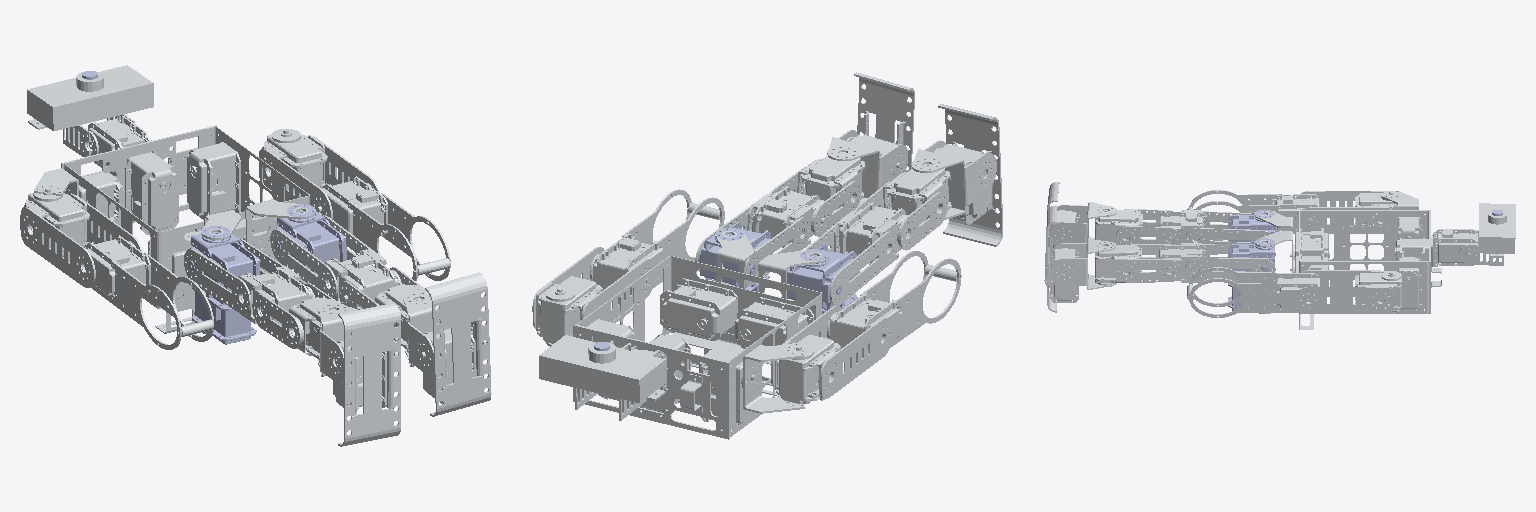
--- Render facts (derived) ---
The picture shows the robot from 3 angles, left to right: view 1: azimuth 30°, elevation 25°; view 2: azimuth 150°, elevation 25°; view 3: azimuth 270°, elevation 25°; orthographic projection.
Robot: natasha_urdf_v6 — 22 links, 21 joints (21 continuous); root link TRUNK; default pose: every joint at zero.
Links seen in each view (by area): view 1: TRUNK, RFOOT_link, LFOOT_link, HEAD_1_link, RARM_2_link, RARM_1_link, LARM_2_link, LARM_1_link, LLEG_1_link, RLEG_1_link, RLEG_2_link, RLEG_3_link (+8 smaller); view 2: TRUNK, HEAD_1_link, RARM_1_link, LARM_1_link, RARM_2_link, RLEG_1_link, RFOOT_link, LARM_2_link, LLEG_1_link, RLEG_3_link, LFOOT_link, LLEG_3_link (+7 smaller); view 3: TRUNK, LARM_1_link, LARM_2_link, LLEG_3_link, LLEG_1_link, RARM_1_link, RLEG_1_link, RLEG_3_link, HEAD_1_link, RARM_2_link, LLEG_4_link, HEAD_0_link (+5 smaller).
Boxes of the visible links, left/top/right/bottom form: TRUNK: left=61, top=125, right=309, bottom=333; RFOOT_link: left=333, top=303, right=400, bottom=446; LFOOT_link: left=420, top=272, right=491, bottom=416; HEAD_1_link: left=27, top=65, right=153, bottom=156; RARM_2_link: left=82, top=235, right=213, bottom=349; RARM_1_link: left=20, top=187, right=142, bottom=287; LARM_2_link: left=317, top=176, right=450, bottom=280; LARM_1_link: left=259, top=129, right=379, bottom=219; LLEG_1_link: left=270, top=215, right=401, bottom=308; RLEG_1_link: left=184, top=238, right=314, bottom=325; RLEG_2_link: left=186, top=226, right=260, bottom=344; RLEG_3_link: left=252, top=283, right=340, bottom=362; TRUNK: left=573, top=256, right=821, bottom=439; HEAD_1_link: left=539, top=335, right=665, bottom=420; RARM_1_link: left=771, top=306, right=893, bottom=403; LARM_1_link: left=532, top=247, right=655, bottom=346; RARM_2_link: left=827, top=251, right=961, bottom=353; RLEG_1_link: left=787, top=202, right=909, bottom=305; RFOOT_link: left=934, top=104, right=1002, bottom=246; LARM_2_link: left=590, top=189, right=724, bottom=294; LLEG_1_link: left=695, top=186, right=825, bottom=285; RLEG_3_link: left=854, top=164, right=951, bottom=250; LFOOT_link: left=847, top=72, right=914, bottom=206; LLEG_3_link: left=769, top=152, right=865, bottom=236; TRUNK: left=1290, top=210, right=1441, bottom=329; LARM_1_link: left=1295, top=270, right=1401, bottom=313; LARM_2_link: left=1187, top=267, right=1319, bottom=317; LLEG_3_link: left=1095, top=244, right=1180, bottom=285; LLEG_1_link: left=1159, top=243, right=1275, bottom=282; RARM_1_link: left=1295, top=191, right=1397, bottom=233; RLEG_1_link: left=1159, top=210, right=1275, bottom=246; RLEG_3_link: left=1095, top=209, right=1180, bottom=246; HEAD_1_link: left=1467, top=203, right=1515, bottom=265; RARM_2_link: left=1187, top=190, right=1319, bottom=240; LLEG_4_link: left=1050, top=239, right=1116, bottom=289; HEAD_0_link: left=1431, top=229, right=1478, bottom=266.
Bounding box of the posed robot: 0.3171 × 0.6504 × 0.1656 m (x, y, z).
Meshes: 22 distinct files referenced, 21 mesh visuals loaded (21 binary STL); not drawn: 1 (reference not matched to a file when rendering).

URDF robot description (natasha_urdf_v6):
<?xml version="1.0" encoding="utf-8"?>
<!-- This URDF was automatically created by SolidWorks to URDF Exporter! Originally created by Stephen Brawner ([email redacted]) 
     Commit Version: 1.6.0-1-g15f4949  Build Version: 1.6.7594.29634
     For more information, please see http://wiki.ros.org/sw_urdf_exporter -->
<robot
  name="natasha_urdf_v6">
  <link
    name="TRUNK">
    <inertial>
      <origin
        xyz="9.50996658639555E-06 0.00937366296309542 -0.00305558382467455"
        rpy="0 0 0" />
      <mass
        value="1.3101073571581" />
      <inertia
        ixx="0.000862370509360034"
        ixy="6.88949666442212E-07"
        ixz="8.1324508496927E-07"
        iyy="0.00112591602005438"
        iyz="-3.82594017095284E-05"
        izz="0.00129512091254438" />
    </inertial>
    <visual>
      <origin
        xyz="0 0 0"
        rpy="0 0 0" />
      <geometry>
        <mesh
          filename="package://natasha_urdf_v6/meshes/TRUNK.STL" />
      </geometry>
      <material
        name="">
        <color
          rgba="0.898039215686275 0.917647058823529 0.929411764705882 1" />
      </material>
    </visual>
    <collision>
      <origin
        xyz="0 0 0"
        rpy="0 0 0" />
      <geometry>
        <mesh
          filename="package://natasha_urdf_v6/meshes/TRUNK.STL" />
      </geometry>
    </collision>
  </link>
  <link
    name="LARM_0_link">
    <inertial>
      <origin
        xyz="0.00940240087518641 -0.00459323020780419 2.562572747003E-05"
        rpy="0 0 0" />
      <mass
        value="0.0227126661379004" />
      <inertia
        ixx="1.55987340377569E-05"
        ixy="1.67253121532139E-06"
        ixz="-9.33108665795984E-09"
        iyy="1.69257189782126E-05"
        iyz="-5.55483641362852E-08"
        izz="6.96937791863944E-06" />
    </inertial>
    <visual>
      <origin
        xyz="0 0 0"
        rpy="0 0 0" />
      <geometry>
        <mesh
          filename="package://natasha_urdf_v6/meshes/LARM_0_link.STL" />
      </geometry>
      <material
        name="">
        <color
          rgba="0.898039215686275 0.917647058823529 0.929411764705882 1" />
      </material>
    </visual>
    <collision>
      <origin
        xyz="0 0 0"
        rpy="0 0 0" />
      <geometry>
        <mesh
          filename="package://natasha_urdf_v6/meshes/LARM_0_link.STL" />
      </geometry>
    </collision>
  </link>
  <joint
    name="LARM_0"
    type="continuous">
    <origin
      xyz="0.0968000000000001 0.0615 0.013"
      rpy="0 0 0" />
    <parent
      link="TRUNK" />
    <child
      link="LARM_0_link" />
    <axis
      xyz="-1 0 0" />
  </joint>
  <link
    name="LARM_1_link">
    <inertial>
      <origin
        xyz="2.6993634145156E-06 -0.0231641298245469 -0.0307096397868224"
        rpy="0 0 0" />
      <mass
        value="0.313942828750374" />
      <inertia
        ixx="0.000201312815423623"
        ixy="-5.05107454369387E-09"
        ixz="7.03025970862125E-09"
        iyy="7.42237915855182E-05"
        iyz="-2.86966238425841E-06"
        izz="0.000166600144989775" />
    </inertial>
    <visual>
      <origin
        xyz="0 0 0"
        rpy="0 0 0" />
      <geometry>
        <mesh
          filename="package://natasha_urdf_v6/meshes/LARM_1_link.STL" />
      </geometry>
      <material
        name="">
        <color
          rgba="0.898039215686275 0.917647058823529 0.929411764705882 1" />
      </material>
    </visual>
    <collision>
      <origin
        xyz="0 0 0"
        rpy="0 0 0" />
      <geometry>
        <mesh
          filename="package://natasha_urdf_v6/meshes/LARM_1_link.STL" />
      </geometry>
    </collision>
  </link>
  <joint
    name="LARM_1"
    type="continuous">
    <origin
      xyz="0.033842632968668 -0.0236234517093273 0.030932275060126"
      rpy="-0.00557896304881236 0 0" />
    <parent
      link="LARM_0_link" />
    <child
      link="LARM_1_link" />
    <axis
      xyz="0 -0.00557893410814587 0.999984437626015" />
  </joint>
  <link
    name="LARM_2_link">
    <inertial>
      <origin
        xyz="0.0306962270533953 -0.0274919403142502 -0.000520647910192878"
        rpy="0 0 0" />
      <mass
        value="0.281496848216382" />
      <inertia
        ixx="0.000156753433227665"
        ixy="2.8696566897768E-06"
        ixz="-7.03145337260691E-09"
        iyy="7.28961406660006E-05"
        iyz="4.98720536010227E-06"
        izz="0.000170904146038926" />
    </inertial>
    <visual>
      <origin
        xyz="0 0 0"
        rpy="0 0 0" />
      <geometry>
        <mesh
          filename="package://natasha_urdf_v6/meshes/LARM_2_link.STL" />
      </geometry>
      <material
        name="">
        <color
          rgba="0.898039215686275 0.917647058823529 0.929411764705882 1" />
      </material>
    </visual>
    <collision>
      <origin
        xyz="0 0 0"
        rpy="0 0 0" />
      <geometry>
        <mesh
          filename="package://natasha_urdf_v6/meshes/LARM_2_link.STL" />
      </geometry>
    </collision>
  </link>
  <joint
    name="LARM_2"
    type="continuous">
    <origin
      xyz="-0.0307 -0.113500031528617 -0.0307999828025723"
      rpy="0.00373494942577696 0 0" />
    <parent
      link="LARM_1_link" />
    <child
      link="LARM_2_link" />
    <axis
      xyz="-1 0 0" />
  </joint>
  <link
    name="RARM_0_link">
    <inertial>
      <origin
        xyz="-0.00940240087518694 -0.00459330169048325 1.38777878078145E-16"
        rpy="0 0 0" />
      <mass
        value="0.0227126661379004" />
      <inertia
        ixx="1.5598734037757E-05"
        ixy="-1.67255724428275E-06"
        ixz="9.80180517791004E-23"
        iyy="1.69260288836989E-05"
        iyz="-7.45051143935548E-21"
        izz="6.9690680131533E-06" />
    </inertial>
    <visual>
      <origin
        xyz="0 0 0"
        rpy="0 0 0" />
      <geometry>
        <mesh
          filename="package://natasha_urdf_v6/meshes/RARM_0_link.STL" />
      </geometry>
      <material
        name="">
        <color
          rgba="0.898039215686275 0.917647058823529 0.929411764705882 1" />
      </material>
    </visual>
    <collision>
      <origin
        xyz="0 0 0"
        rpy="0 0 0" />
      <geometry>
        <mesh
          filename="package://natasha_urdf_v6/meshes/RARM_0_link.STL" />
      </geometry>
    </collision>
  </link>
  <joint
    name="RARM_0"
    type="continuous">
    <origin
      xyz="-0.0968 0.0614999999999995 0.0130000000000002"
      rpy="0 0 0" />
    <parent
      link="TRUNK" />
    <child
      link="RARM_0_link" />
    <axis
      xyz="1 0 0" />
  </joint>
  <link
    name="RARM_1_link">
    <inertial>
      <origin
        xyz="2.72761398398269E-06 -0.0234065801315187 -0.0304535220772558"
        rpy="0 0 0" />
      <mass
        value="0.310690942542616" />
      <inertia
        ixx="0.000201125130689468"
        ixy="-5.05107366002635E-09"
        ixz="7.03026375288368E-09"
        iyy="7.40361068543428E-05"
        iyz="-2.86965668919052E-06"
        izz="0.00016622908572022" />
    </inertial>
    <visual>
      <origin
        xyz="0 0 0"
        rpy="0 0 0" />
      <geometry>
        <mesh
          filename="package://natasha_urdf_v6/meshes/RARM_1_link.STL" />
      </geometry>
      <material
        name="">
        <color
          rgba="0.898039215686275 0.917647058823529 0.929411764705882 1" />
      </material>
    </visual>
    <collision>
      <origin
        xyz="0 0 0"
        rpy="0 0 0" />
      <geometry>
        <mesh
          filename="package://natasha_urdf_v6/meshes/RARM_1_link.STL" />
      </geometry>
    </collision>
  </link>
  <joint
    name="RARM_1"
    type="continuous">
    <origin
      xyz="-0.0338426329686684 -0.0237956531967127 0.0308000000000001"
      rpy="0 0 0.00782300250560052" />
    <parent
      link="RARM_0_link" />
    <child
      link="RARM_1_link" />
    <axis
      xyz="0 0 1" />
  </joint>
  <link
    name="RARM_2_link">
    <inertial>
      <origin
        xyz="-0.0308311537115564 -0.0273506992114726 -0.000523962569397157"
        rpy="0 0 0" />
      <mass
        value="0.282950517834651" />
      <inertia
        ixx="0.000156898152501549"
        ixy="-2.86965669176104E-06"
        ixz="-7.03145069112884E-09"
        iyy="7.29711487587658E-05"
        iyz="4.99731421083851E-06"
        izz="0.000170979154186131" />
    </inertial>
    <visual>
      <origin
        xyz="0 0 0"
        rpy="0 0 0" />
      <geometry>
        <mesh
          filename="package://natasha_urdf_v6/meshes/RARM_2_link.STL" />
      </geometry>
      <material
        name="">
        <color
          rgba="0.898039215686275 0.917647058823529 0.929411764705882 1" />
      </material>
    </visual>
    <collision>
      <origin
        xyz="0 0 0"
        rpy="0 0 0" />
      <geometry>
        <mesh
          filename="package://natasha_urdf_v6/meshes/RARM_2_link.STL" />
      </geometry>
    </collision>
  </link>
  <joint
    name="RARM_2"
    type="continuous">
    <origin
      xyz="0.0306999999999999 -0.113500031528617 -0.0308000171974276"
      rpy="0.0178992667652849 0 0" />
    <parent
      link="RARM_1_link" />
    <child
      link="RARM_2_link" />
    <axis
      xyz="0.999969400471955 -0.00782166957684035 0.000140017103543219" />
  </joint>
  <link
    name="LLEG_0_link">
    <inertial>
      <origin
        xyz="0.00611690802378875 -0.0103947051970063 0.000255197029345039"
        rpy="0 0 0" />
      <mass
        value="0.0284955331549313" />
      <inertia
        ixx="5.8538770118612E-05"
        ixy="3.55397925796294E-06"
        ixz="1.95264684978547E-06"
        iyy="5.64262612619877E-05"
        iyz="1.48271797688886E-07"
        izz="1.18165501756343E-05" />
    </inertial>
    <visual>
      <origin
        xyz="0 0 0"
        rpy="0 0 0" />
      <geometry>
        <mesh
          filename="package://natasha_urdf_v6/meshes/LLEG_0_link.STL" />
      </geometry>
      <material
        name="">
        <color
          rgba="0.898039215686275 0.917647058823529 0.929411764705882 1" />
      </material>
    </visual>
    <collision>
      <origin
        xyz="0 0 0"
        rpy="0 0 0" />
      <geometry>
        <mesh
          filename="package://natasha_urdf_v6/meshes/LLEG_0_link.STL" />
      </geometry>
    </collision>
  </link>
  <joint
    name="LLEG_0"
    type="continuous">
    <origin
      xyz="0.024 -0.1028 -0.00200000000000009"
      rpy="0 0 0" />
    <parent
      link="TRUNK" />
    <child
      link="LLEG_0_link" />
    <axis
      xyz="0 1 0" />
  </joint>
  <link
    name="LLEG_2_link">
    <inertial>
      <origin
        xyz="4.84696386647901E-05 -0.0147653878901167 0.0547754285284808"
        rpy="0 0 0" />
      <mass
        value="0.181419971416749" />
      <inertia
        ixx="7.5057763342329E-05"
        ixy="-4.58251596473346E-07"
        ixz="-9.7002453253403E-14"
        iyy="4.76781981167682E-05"
        iyz="4.49008091990732E-07"
        izz="7.57823947009057E-05" />
    </inertial>
    <visual>
      <origin
        xyz="0 0 0"
        rpy="0 0 0" />
      <geometry>
        <mesh
          filename="package://natasha_urdf_v6/meshes/LLEG_2_link.STL" />
      </geometry>
      <material
        name="">
        <color
          rgba="0.792156862745098 0.819607843137255 0.933333333333333 1" />
      </material>
    </visual>
    <collision>
      <origin
        xyz="0 0 0"
        rpy="0 0 0" />
      <geometry>
        <mesh
          filename="package://natasha_urdf_v6/meshes/LLEG_2_link.STL" />
      </geometry>
    </collision>
  </link>
  <joint
    name="LLEG_2"
    type="continuous">
    <origin
      xyz="0.0263218624524167 -0.0342918830920365 -0.0529488280130583"
      rpy="0 -0.0416957589425347 0" />
    <parent
      link="LLEG_0_link" />
    <child
      link="LLEG_2_link" />
    <axis
      xyz="0.0416836783941989 0 0.99913085777366" />
  </joint>
  <link
    name="LLEG_1_link">
    <inertial>
      <origin
        xyz="-0.0301478736024568 -0.0955222192287919 -0.000991086420867482"
        rpy="0 0 0" />
      <mass
        value="0.129982121306727" />
      <inertia
        ixx="8.08701115081754E-05"
        ixy="-1.0633343982302E-06"
        ixz="-8.4993279723358E-09"
        iyy="2.79281577232633E-05"
        iyz="-5.90071071482206E-07"
        izz="8.47521728073328E-05" />
    </inertial>
    <visual>
      <origin
        xyz="0 0 0"
        rpy="0 0 0" />
      <geometry>
        <mesh
          filename="package://natasha_urdf_v6/meshes/LLEG_1_link.STL" />
      </geometry>
      <material
        name="">
        <color
          rgba="0.898039215686275 0.917647058823529 0.929411764705882 1" />
      </material>
    </visual>
    <collision>
      <origin
        xyz="0 0 0"
        rpy="0 0 0" />
      <geometry>
        <mesh
          filename="package://natasha_urdf_v6/meshes/LLEG_1_link.STL" />
      </geometry>
    </collision>
  </link>
  <joint
    name="LLEG_1"
    type="continuous">
    <origin
      xyz="0.031 0 0.075"
      rpy="0 0 0" />
    <parent
      link="LLEG_2_link" />
    <child
      link="LLEG_1_link" />
    <axis
      xyz="-0.99913085777366 0 0.0416836783941877" />
  </joint>
  <link
    name="LLEG_3_link">
    <inertial>
      <origin
        xyz="0.0317059707820777 -0.0683888249972322 -0.000240671914399748"
        rpy="0 0 0" />
      <mass
        value="0.278860605688386" />
      <inertia
        ixx="0.000133797738993349"
        ixy="5.03612321398979E-09"
        ixz="-7.040989575564E-09"
        iyy="6.80232951180483E-05"
        iyz="-2.79130258611279E-06"
        izz="0.000104900464633088" />
    </inertial>
    <visual>
      <origin
        xyz="0 0 0"
        rpy="0 0 0" />
      <geometry>
        <mesh
          filename="package://natasha_urdf_v6/meshes/LLEG_3_link.STL" />
      </geometry>
      <material
        name="">
        <color
          rgba="0.898039215686275 0.917647058823529 0.929411764705882 1" />
      </material>
    </visual>
    <collision>
      <origin
        xyz="0 0 0"
        rpy="0 0 0" />
      <geometry>
        <mesh
          filename="package://natasha_urdf_v6/meshes/LLEG_3_link.STL" />
      </geometry>
    </collision>
  </link>
  <joint
    name="LLEG_3"
    type="continuous">
    <origin
      xyz="-0.0608 -0.130992983804087 -0.00135580017118031"
      rpy="0.0103498044019775 0 0" />
    <parent
      link="LLEG_1_link" />
    <child
      link="LLEG_3_link" />
    <axis
      xyz="0.99913085777366 -0.000431410216038373 -0.0416814458685814" />
  </joint>
  <link
    name="LLEG_4_link">
    <inertial>
      <origin
        xyz="-0.00012145378260401 -0.0298479149198485 0.0307999999999998"
        rpy="0 0 0" />
      <mass
        value="0.048093526627304" />
      <inertia
        ixx="3.48400166564422E-05"
        ixy="2.40482554480089E-09"
        ixz="1.15408239063398E-20"
        iyy="3.54310055761897E-05"
        iyz="5.28072103053853E-20"
        izz="3.83846336806515E-05" />
    </inertial>
    <visual>
      <origin
        xyz="0 0 0"
        rpy="0 0 0" />
      <geometry>
        <mesh
          filename="package://natasha_urdf_v6/meshes/LLEG_4_link.STL" />
      </geometry>
      <material
        name="">
        <color
          rgba="0.898039215686275 0.917647058823529 0.929411764705882 1" />
      </material>
    </visual>
    <collision>
      <origin
        xyz="0 0 0"
        rpy="0 0 0" />
      <geometry>
        <mesh
          filename="package://natasha_urdf_v6/meshes/LLEG_4_link.STL" />
      </geometry>
    </collision>
  </link>
  <joint
    name="LLEG_4"
    type="continuous">
    <origin
      xyz="0.0323000000000014 -0.0890652619287499 -0.0306107680001929"
      rpy="-0.00212542217971663 0 0" />
    <parent
      link="LLEG_3_link" />
    <child
      link="LLEG_4_link" />
    <axis
      xyz="0.0416836783941955 0.00821714142844731 0.999097067127251" />
  </joint>
  <link
    name="LFOOT_link">
    <inertial>
      <origin
        xyz="0.0307034864425753 -0.00347536885924349 -0.0116619863330958"
        rpy="0 0 0" />
      <mass
        value="0.282453842578527" />
      <inertia
        ixx="0.000173706647011547"
        ixy="6.06317228645694E-09"
        ixz="2.86965889163786E-06"
        iyy="0.000210076740177138"
        iyz="1.43527812282945E-07"
        izz="7.65871730765758E-05" />
    </inertial>
    <visual>
      <origin
        xyz="0 0 0"
        rpy="0 0 0" />
      <geometry>
        <mesh
          filename="package://natasha_urdf_v6/meshes/LFOOT_link.STL" />
      </geometry>
      <material
        name="">
        <color
          rgba="0.898039215686275 0.917647058823529 0.929411764705882 1" />
      </material>
    </visual>
    <collision>
      <origin
        xyz="0 0 0"
        rpy="0 0 0" />
      <geometry>
        <mesh
          filename="package://natasha_urdf_v6/meshes/LFOOT_link.STL" />
      </geometry>
    </collision>
  </link>
  <joint
    name="LFOOT"
    type="continuous">
    <origin
      xyz="-0.0311295366896684 -0.0563469987109144 0.0307999999999998"
      rpy="0 0 -0.00406906521311973" />
    <parent
      link="LLEG_4_link" />
    <child
      link="LFOOT_link" />
    <axis
      xyz="0.999123981282086 0.00372270159706344 -0.0416822686504929" />
  </joint>
  <link
    name="RLEG_0_link">
    <inertial>
      <origin
        xyz="-0.00612088405627434 -0.0103947051970067 0.000128326399923023"
        rpy="0 0 0" />
      <mass
        value="0.0284955331549313" />
      <inertia
        ixx="5.85996353299852E-05"
        ixy="-3.5562893690403E-06"
        ixz="-9.82531095367397E-07"
        iyy="5.64262612619878E-05"
        iyz="7.45588068025943E-08"
        izz="1.17556849642613E-05" />
    </inertial>
    <visual>
      <origin
        xyz="0 0 0"
        rpy="0 0 0" />
      <geometry>
        <mesh
          filename="package://natasha_urdf_v6/meshes/RLEG_0_link.STL" />
      </geometry>
      <material
        name="">
        <color
          rgba="0.898039215686275 0.917647058823529 0.929411764705882 1" />
      </material>
    </visual>
    <collision>
      <origin
        xyz="0 0 0"
        rpy="0 0 0" />
      <geometry>
        <mesh
          filename="package://natasha_urdf_v6/meshes/RLEG_0_link.STL" />
      </geometry>
    </collision>
  </link>
  <joint
    name="RLEG_0"
    type="continuous">
    <origin
      xyz="-0.024 -0.1028 -0.00200000000000003"
      rpy="0 0 0" />
    <parent
      link="TRUNK" />
    <child
      link="RLEG_0_link" />
    <axis
      xyz="0 1 0" />
  </joint>
  <link
    name="RLEG_2_link">
    <inertial>
      <origin
        xyz="0.00119659194968146 -0.0147653879013803 0.0547623783973532"
        rpy="0 0 0" />
      <mass
        value="0.181419971018928" />
      <inertia
        ixx="7.50580816448035E-05"
        ixy="-4.4873937744232E-07"
        ixz="1.51853704813845E-08"
        iyy="4.7678198106741E-05"
        iyz="4.58514729468497E-07"
        izz="7.57820762767264E-05" />
    </inertial>
    <visual>
      <origin
        xyz="0 0 0"
        rpy="0 0 0" />
      <geometry>
        <mesh
          filename="package://natasha_urdf_v6/meshes/RLEG_2_link.STL" />
      </geometry>
      <material
        name="">
        <color
          rgba="0.792156862745098 0.819607843137255 0.933333333333333 1" />
      </material>
    </visual>
    <collision>
      <origin
        xyz="0 0 0"
        rpy="0 0 0" />
      <geometry>
        <mesh
          filename="package://natasha_urdf_v6/meshes/RLEG_2_link.STL" />
      </geometry>
    </collision>
  </link>
  <joint
    name="RLEG_2"
    type="continuous">
    <origin
      xyz="-0.0252184695940656 -0.0342918830920368 -0.0534831526955314"
      rpy="0 0 0" />
    <parent
      link="RLEG_0_link" />
    <child
      link="RLEG_2_link" />
    <axis
      xyz="0 0 1" />
  </joint>
  <link
    name="RLEG_1_link">
    <inertial>
      <origin
        xyz="-0.0302521262965069 -0.0954243450576696 0.00435477329267916"
        rpy="0 0 0" />
      <mass
        value="0.129982120569968" />
      <inertia
        ixx="8.08701112626142E-05"
        ixy="1.06311550617595E-06"
        ixz="-2.31868917120218E-08"
        iyy="2.80273150969463E-05"
        iyz="2.35392833053005E-06"
        izz="8.46530151556363E-05" />
    </inertial>
    <visual>
      <origin
        xyz="0 0 0"
        rpy="0 0 0" />
      <geometry>
        <mesh
          filename="package://natasha_urdf_v6/meshes/RLEG_1_link.STL" />
      </geometry>
      <material
        name="">
        <color
          rgba="0.898039215686275 0.917647058823529 0.929411764705882 1" />
      </material>
    </visual>
    <collision>
      <origin
        xyz="0 0 0"
        rpy="0 0 0" />
      <geometry>
        <mesh
          filename="package://natasha_urdf_v6/meshes/RLEG_1_link.STL" />
      </geometry>
    </collision>
  </link>
  <joint
    name="RLEG_1"
    type="continuous">
    <origin
      xyz="0.0325652441461286 0 0.0743337398070555"
      rpy="0 0.0209622665519561 0" />
    <parent
      link="RLEG_2_link" />
    <child
      link="RLEG_1_link" />
    <axis
      xyz="-0.999780299735675 0 -0.0209607313909781" />
  </joint>
  <link
    name="RLEG_3_link">
    <inertial>
      <origin
        xyz="-0.0293471813586466 -0.0683620964156097 0.002542632828822"
        rpy="0 0 0" />
      <mass
        value="0.278860605783953" />
      <inertia
        ixx="0.000133784802710372"
        ixy="-2.90948664128771E-08"
        ixz="-6.09835964025577E-07"
        iyy="6.78834937343782E-05"
        iyz="-1.6172579731301E-06"
        izz="0.00010505320233869" />
    </inertial>
    <visual>
      <origin
        xyz="0 0 0"
        rpy="0 0 0" />
      <geometry>
        <mesh
          filename="package://natasha_urdf_v6/meshes/RLEG_3_link.STL" />
      </geometry>
      <material
        name="">
        <color
          rgba="0.898039215686275 0.917647058823529 0.929411764705882 1" />
      </material>
    </visual>
    <collision>
      <origin
        xyz="0 0 0"
        rpy="0 0 0" />
      <geometry>
        <mesh
          filename="package://natasha_urdf_v6/meshes/RLEG_3_link.STL" />
      </geometry>
    </collision>
  </link>
  <joint
    name="RLEG_3"
    type="continuous">
    <origin
      xyz="0.000400000000000303 -0.130874314134697 0.00554637358151566"
      rpy="0 -0.0209622665519561 0" />
    <parent
      link="RLEG_1_link" />
    <child
      link="RLEG_3_link" />
    <axis
      xyz="-1 0 0" />
  </joint>
  <link
    name="RLEG_4_link">
    <inertial>
      <origin
        xyz="-0.000720652913031292 -0.0287572595682331 0.0318127876425609"
        rpy="0 0 0" />
      <mass
        value="0.0480935266273041" />
      <inertia
        ixx="3.48428000286575E-05"
        ixy="2.95114699077578E-08"
        ixz="7.32569323445958E-08"
        iyy="3.54331179648541E-05"
        iyz="9.92743086016999E-08"
        izz="3.83797379197718E-05" />
    </inertial>
    <visual>
      <origin
        xyz="0 0 0"
        rpy="0 0 0" />
      <geometry>
        <mesh
          filename="package://natasha_urdf_v6/meshes/RLEG_4_link.STL" />
      </geometry>
      <material
        name="">
        <color
          rgba="0.898039215686275 0.917647058823529 0.929411764705882 1" />
      </material>
    </visual>
    <collision>
      <origin
        xyz="0 0 0"
        rpy="0 0 0" />
      <geometry>
        <mesh
          filename="package://natasha_urdf_v6/meshes/RLEG_4_link.STL" />
      </geometry>
    </collision>
  </link>
  <joint
    name="RLEG_4"
    type="continuous">
    <origin
      xyz="-0.0293758064931488 -0.089990683299754 -0.0271628222408554"
      rpy="0 0 0" />
    <parent
      link="RLEG_3_link" />
    <child
      link="RLEG_4_link" />
    <axis
      xyz="0 0 1" />
  </joint>
  <link
    name="RFOOT_link">
    <inertial>
      <origin
        xyz="-0.0308590537067001 -0.00261551213492173 -0.0146646801918331"
        rpy="0 0 0" />
      <mass
        value="0.279201956368568" />
      <inertia
        ixx="0.000173250325265924"
        ixy="1.51613166921443E-06"
        ixz="-4.94606658550747E-06"
        iyy="0.000209671929424649"
        iyz="-4.32060239029044E-06"
        izz="7.6701876827941E-05" />
    </inertial>
    <visual>
      <origin
        xyz="0 0 0"
        rpy="0 0 0" />
      <geometry>
        <mesh
          filename="package://natasha_urdf_v6/meshes/RFOOT_link.STL" />
      </geometry>
      <material
        name="">
        <color
          rgba="0.898039215686275 0.917647058823529 0.929411764705882 1" />
      </material>
    </visual>
    <collision>
      <origin
        xyz="0 0 0"
        rpy="0 0 0" />
      <geometry>
        <mesh
          filename="package://natasha_urdf_v6/meshes/RFOOT_link.STL" />
      </geometry>
    </collision>
  </link>
  <joint
    name="RFOOT"
    type="continuous">
    <origin
      xyz="0.0288219341535647 -0.0567690457829005 0.0321414665313718"
      rpy="0 0 0" />
    <parent
      link="RLEG_4_link" />
    <child
      link="RFOOT_link" />
    <axis
      xyz="-1 0 0" />
  </joint>
  <link
    name="HEAD_0_link">
    <inertial>
      <origin
        xyz="-0.000459940926986426 0.0295842069158784 0.00648795528473825"
        rpy="0 0 0" />
      <mass
        value="0.0830604003158799" />
      <inertia
        ixx="2.60553048517388E-05"
        ixy="-8.80469004186944E-07"
        ixz="7.36642794741161E-09"
        iyy="1.92571871074488E-05"
        iyz="-1.63157149383311E-08"
        izz="3.1598321876418E-05" />
    </inertial>
    <visual>
      <origin
        xyz="0 0 0"
        rpy="0 0 0" />
      <geometry>
        <mesh
          filename="package://natasha_urdf_v6/meshes/HEAD_0_link.STL" />
      </geometry>
      <material
        name="">
        <color
          rgba="0.898039215686275 0.917647058823529 0.929411764705882 1" />
      </material>
    </visual>
    <collision>
      <origin
        xyz="0 0 0"
        rpy="0 0 0" />
      <geometry>
        <mesh
          filename="package://natasha_urdf_v6/meshes/HEAD_0_link.STL" />
      </geometry>
    </collision>
  </link>
  <joint
    name="HEAD_0"
    type="continuous">
    <origin
      xyz="0 0.0978 0.0134999999999998"
      rpy="0 0 0" />
    <parent
      link="TRUNK" />
    <child
      link="HEAD_0_link" />
    <axis
      xyz="0 1 0" />
  </joint>
  <link
    name="HEAD_1_link">
    <inertial>
      <origin
        xyz="-0.0279795159352576 0.0375868624296964 0.02609086279633"
        rpy="0 0 0" />
      <mass
        value="0.162523995997902" />
      <inertia
        ixx="4.36509350799157E-05"
        ixy="-3.8640153482065E-10"
        ixz="8.10816450318051E-08"
        iyy="0.000152599291712245"
        iyz="-6.24210103475761E-07"
        izz="0.000174633754973691" />
    </inertial>
    <visual>
      <origin
        xyz="0 0 0"
        rpy="0 0 0" />
      <geometry>
        <mesh
          filename="package://natasha_urdf_v6/meshes/HEAD_1_link.STL" />
      </geometry>
      <material
        name="">
        <color
          rgba="0.898039215686275 0.917647058823529 0.929411764705882 1" />
      </material>
    </visual>
    <collision>
      <origin
        xyz="0 0 0"
        rpy="0 0 0" />
      <geometry>
        <mesh
          filename="package://natasha_urdf_v6/meshes/HEAD_1_link.STL" />
      </geometry>
    </collision>
  </link>
  <joint
    name="HEAD_1"
    type="continuous">
    <origin
      xyz="0.0280000000000007 0.0472 0.00700000000000014"
      rpy="0 0 0" />
    <parent
      link="HEAD_0_link" />
    <child
      link="HEAD_1_link" />
    <axis
      xyz="-1 0 0" />
  </joint>
  <link
    name="CAM_link">
    <inertial>
      <origin
        xyz="-9.19825971977713E-07 -4.07517424373394E-05 -0.00148592749618415"
        rpy="0 0 0" />
      <mass
        value="0.0005230751768227" />
      <inertia
        ixx="7.84102792145359E-09"
        ixy="1.19788619467128E-13"
        ixz="4.36784276573896E-12"
        iyy="7.84633230302997E-09"
        iyz="1.93511825952827E-10"
        izz="1.48970313126617E-08" />
    </inertial>
    <visual>
      <origin
        xyz="0 0 0"
        rpy="0 0 0" />
      <geometry>
        <mesh
          filename="package://natasha_urdf_v6/meshes/CAM_link.STL" />
      </geometry>
      <material
        name="">
        <color
          rgba="0.792156862745098 0.819607843137255 0.933333333333333 1" />
      </material>
    </visual>
    <collision>
      <origin
        xyz="0 0 0"
        rpy="0 0 0" />
      <geometry>
        <mesh
          filename="package://natasha_urdf_v6/meshes/CAM_link.STL" />
      </geometry>
    </collision>
  </link>
  <joint
    name="CAM"
    type="continuous">
    <origin
      xyz="-0.0279622781431033 0.0394935319232594 0.0539375534923799"
      rpy="0 0 0" />
    <parent
      link="HEAD_1_link" />
    <child
      link="CAM_link" />
    <axis
      xyz="0 1 0" />
  </joint>
</robot>
